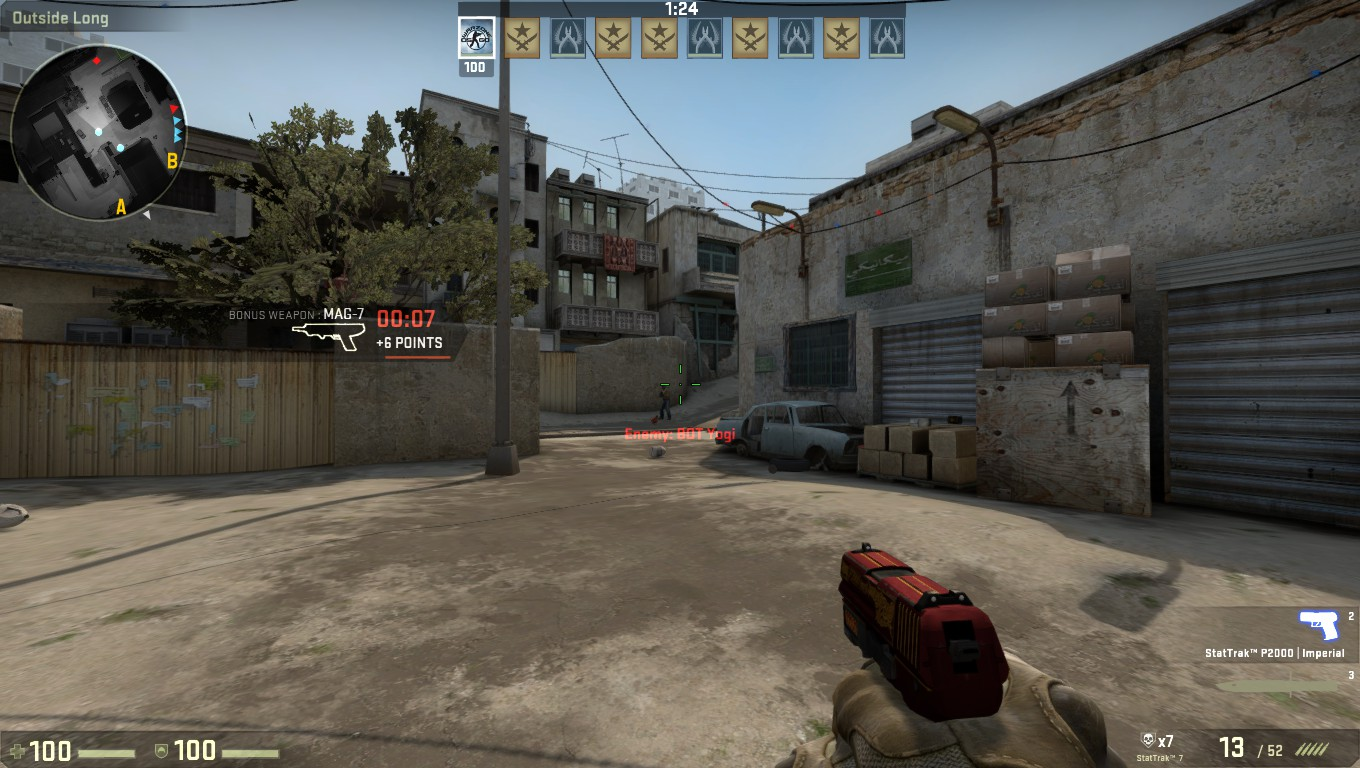t: (657, 382, 674, 422)
